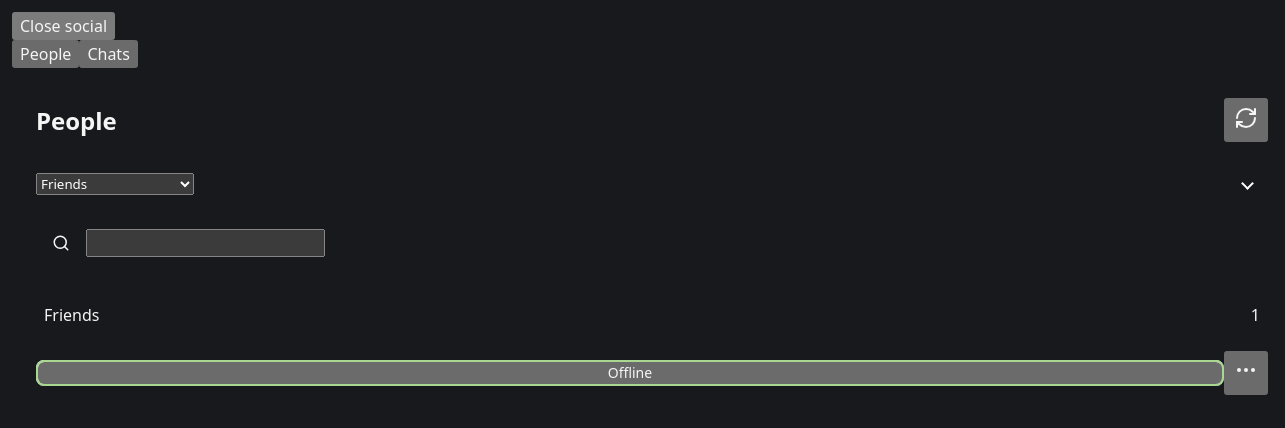
Test: opens the focused person menu with X without opening a profile or changing a relationship
Click the button named "Actions for Synthetic Friend" at (1246, 373), box top-left (1224, 351), bottom-right (1268, 395)
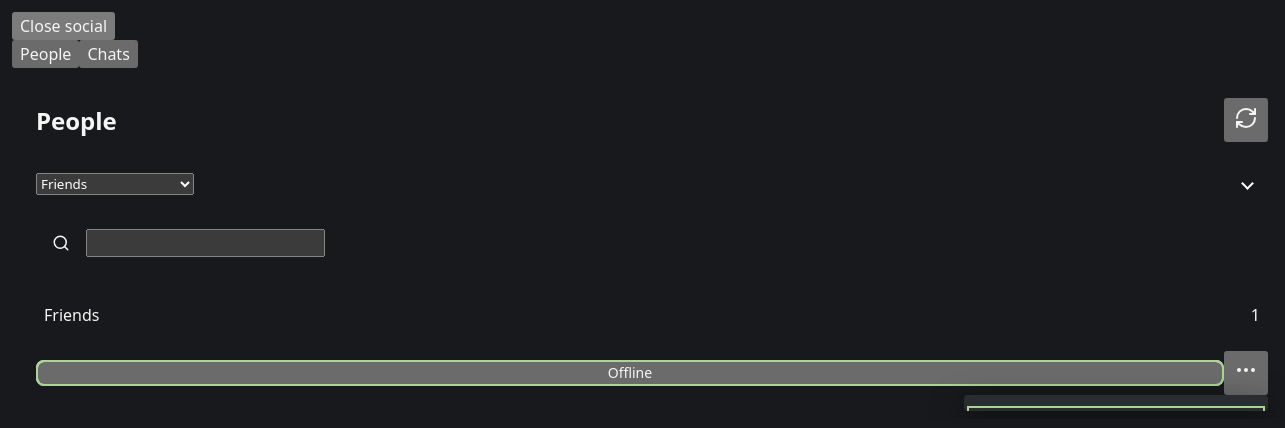
Now the menu is shown, box top-left (964, 395), bottom-right (1268, 411)
